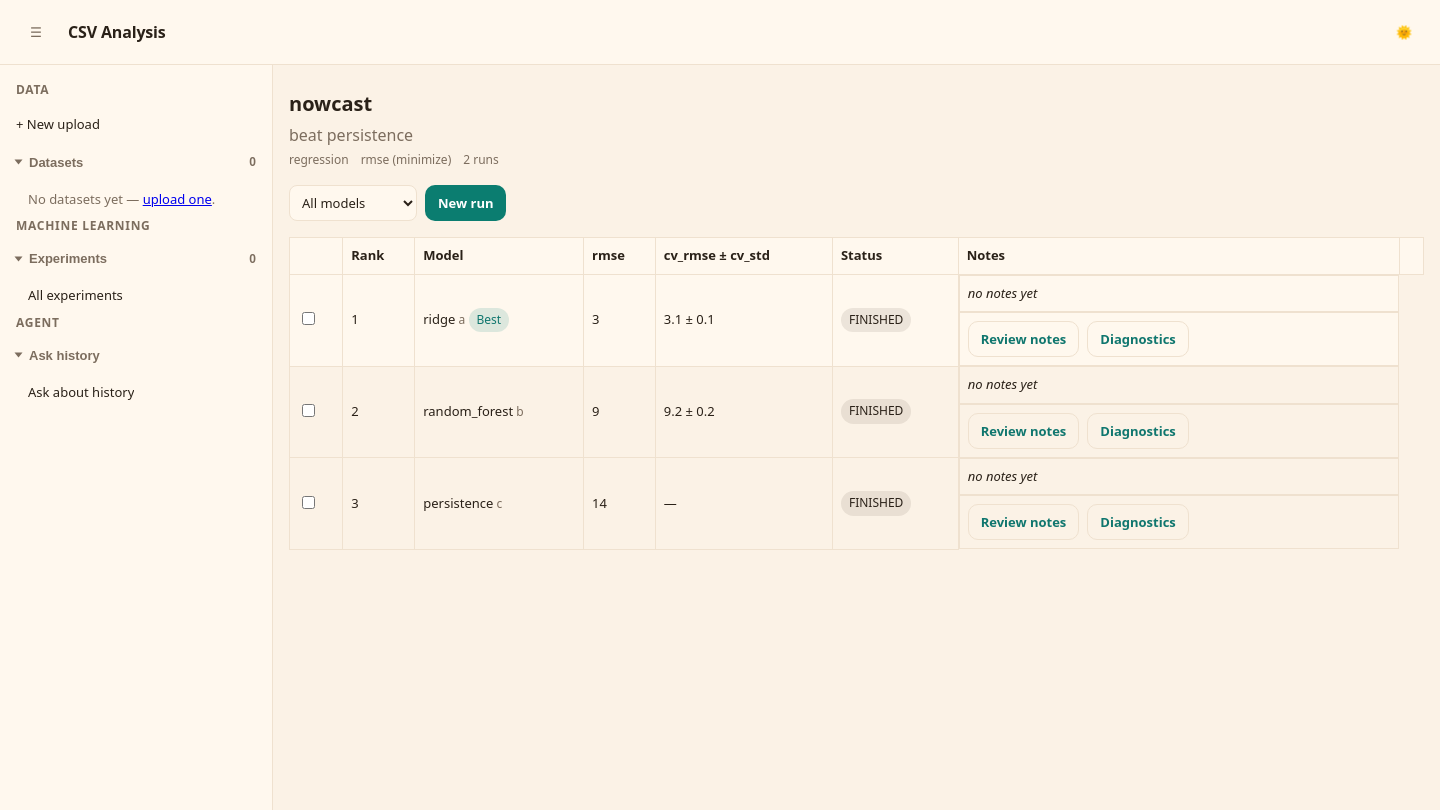
Test case: a launched run is never hidden behind the filter that was set before it
This screenshot has width=1440, height=810.
Select "persistence" in the dropdown named "Model type" at (353,203), box [289,185,417,221]
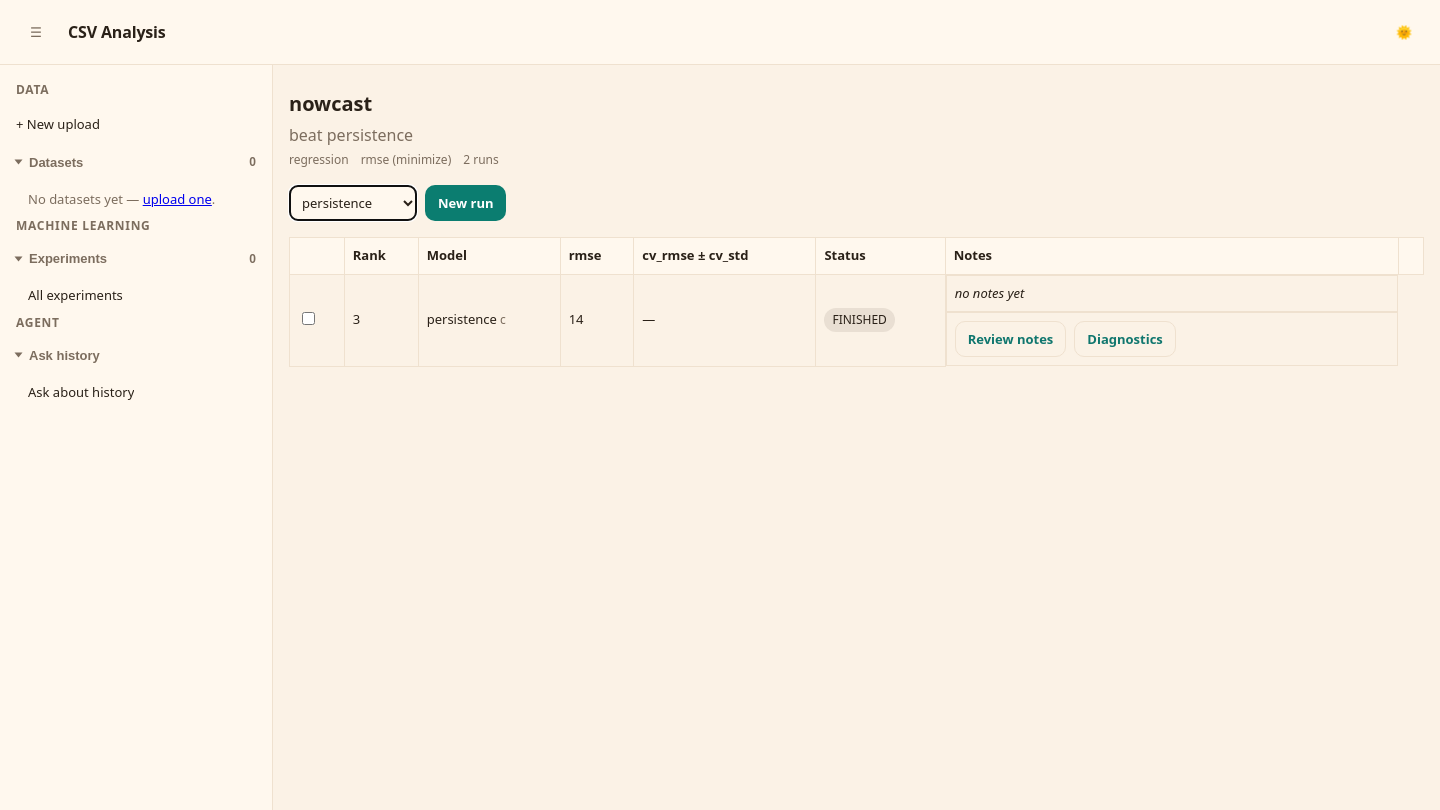
Check: the text "ridge" is gone
Click the button "New run" at (466,203), box [425,185,506,221]
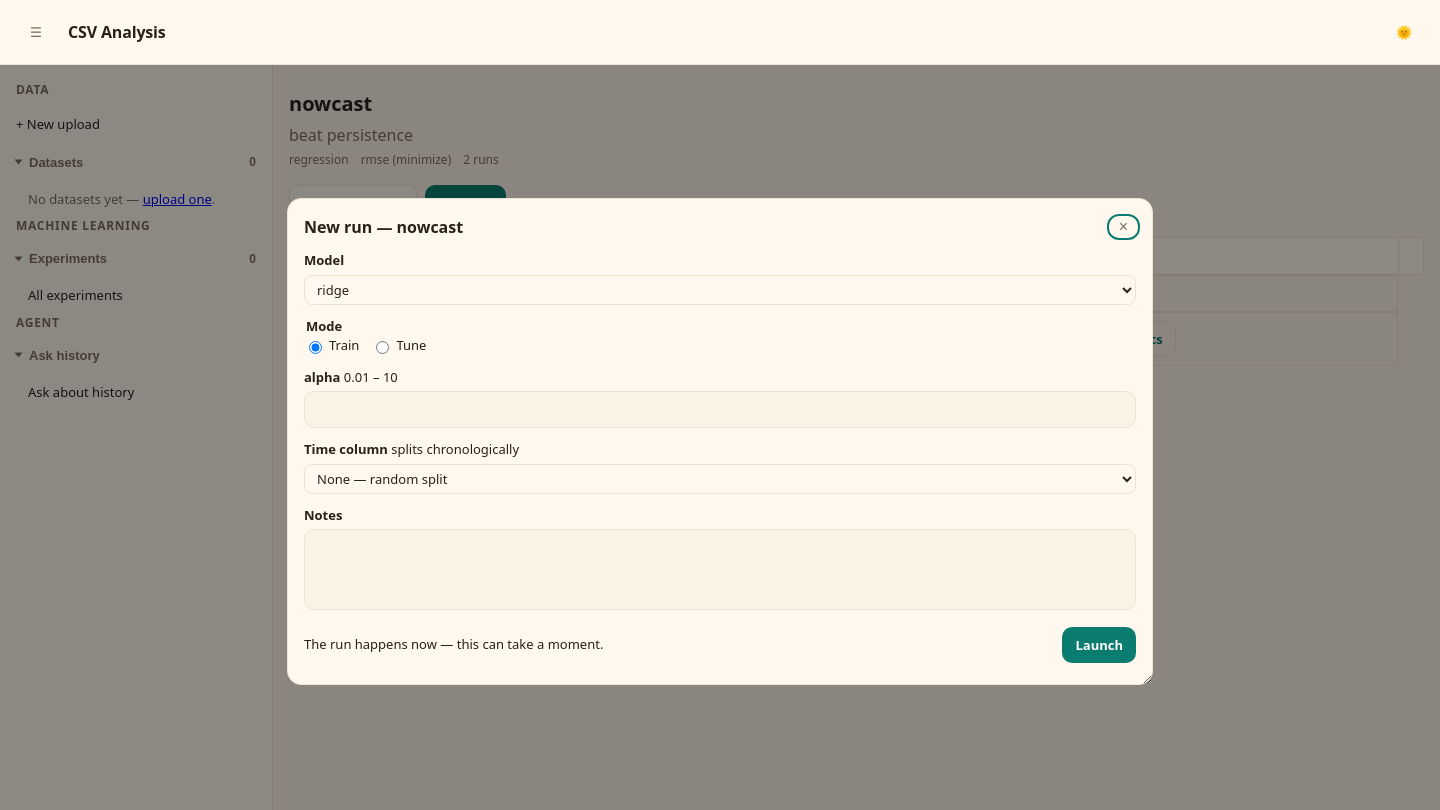
Check: the dropdown labelled "Model" is shown, box [304,274,1136,304]
Click the button "Launch" at (1099,645), box [1062,627,1136,663]
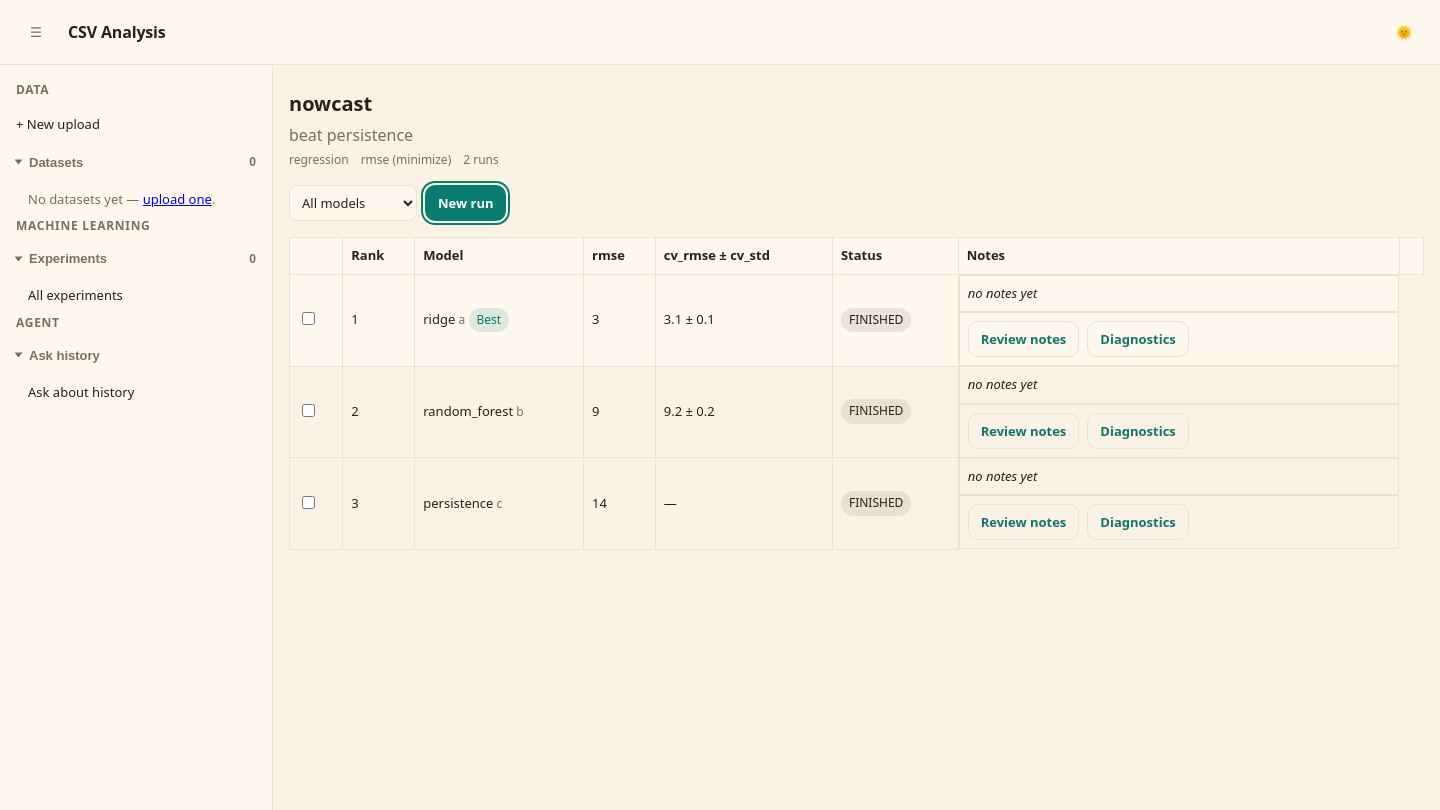
Check: the text "ridge" is shown, box [423,310,455,328]
